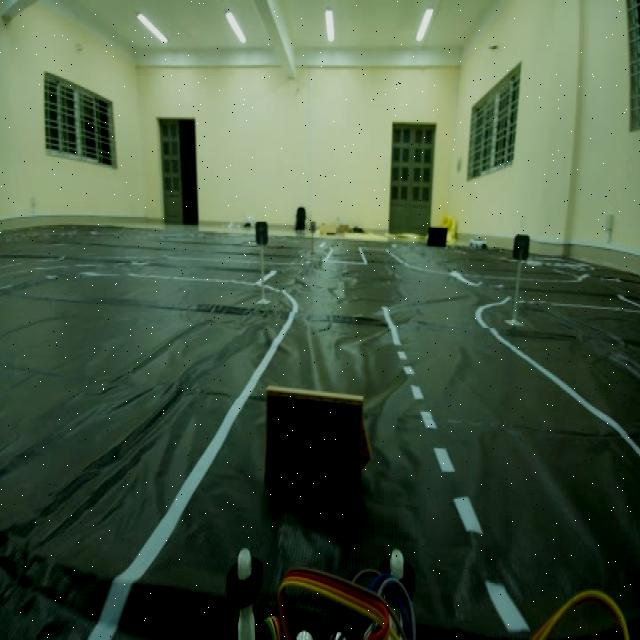roadblock: (260, 379, 367, 510)
